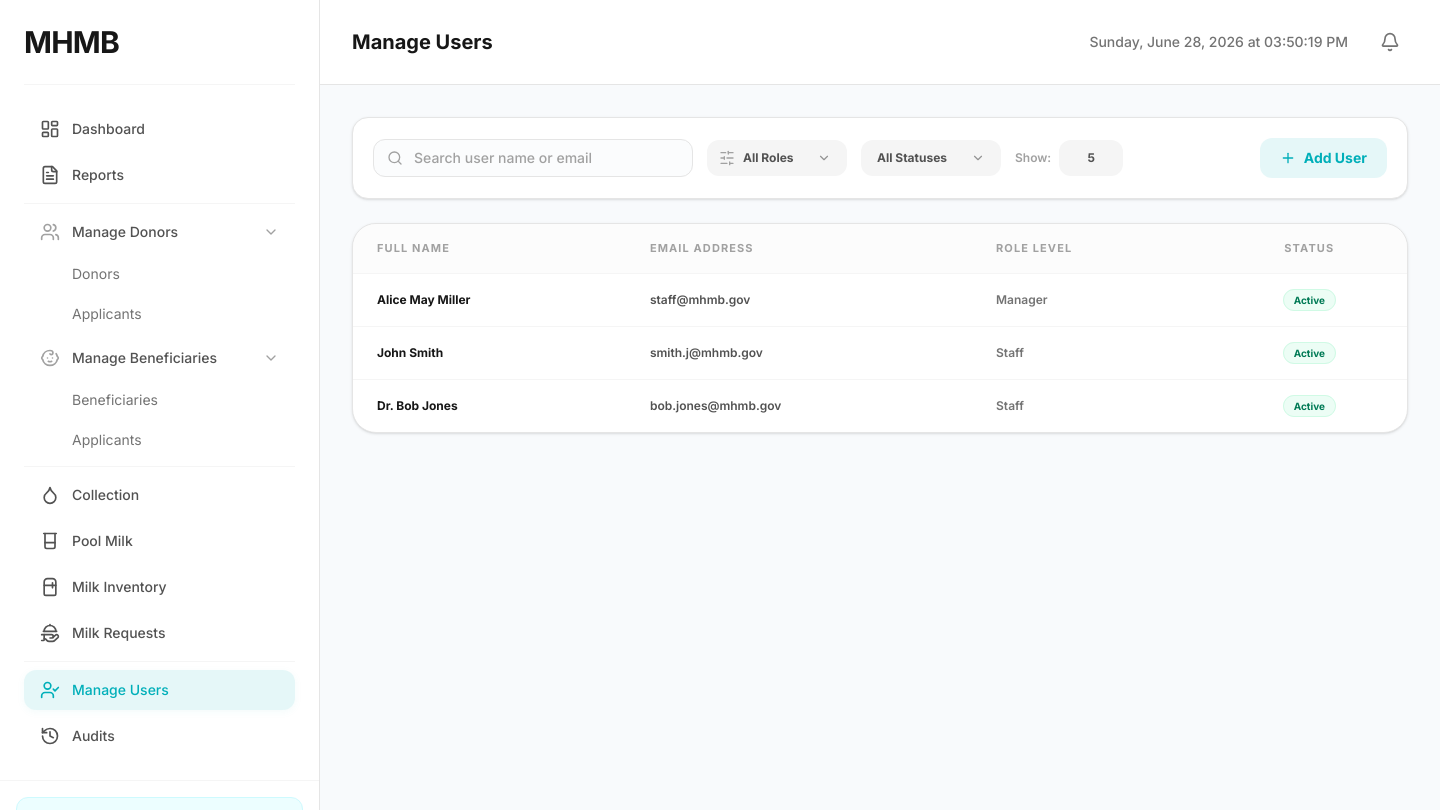
Test: StaffUsersManagement Component (API Integrated) › allows the manager to add a new user via API
The width and height of the screenshot is (1440, 810).
// Open add user modal
Step 1. Click the button with test id "add-user-btn" → {"x": 1323, "y": 158}, box [1260, 138, 1387, 178]
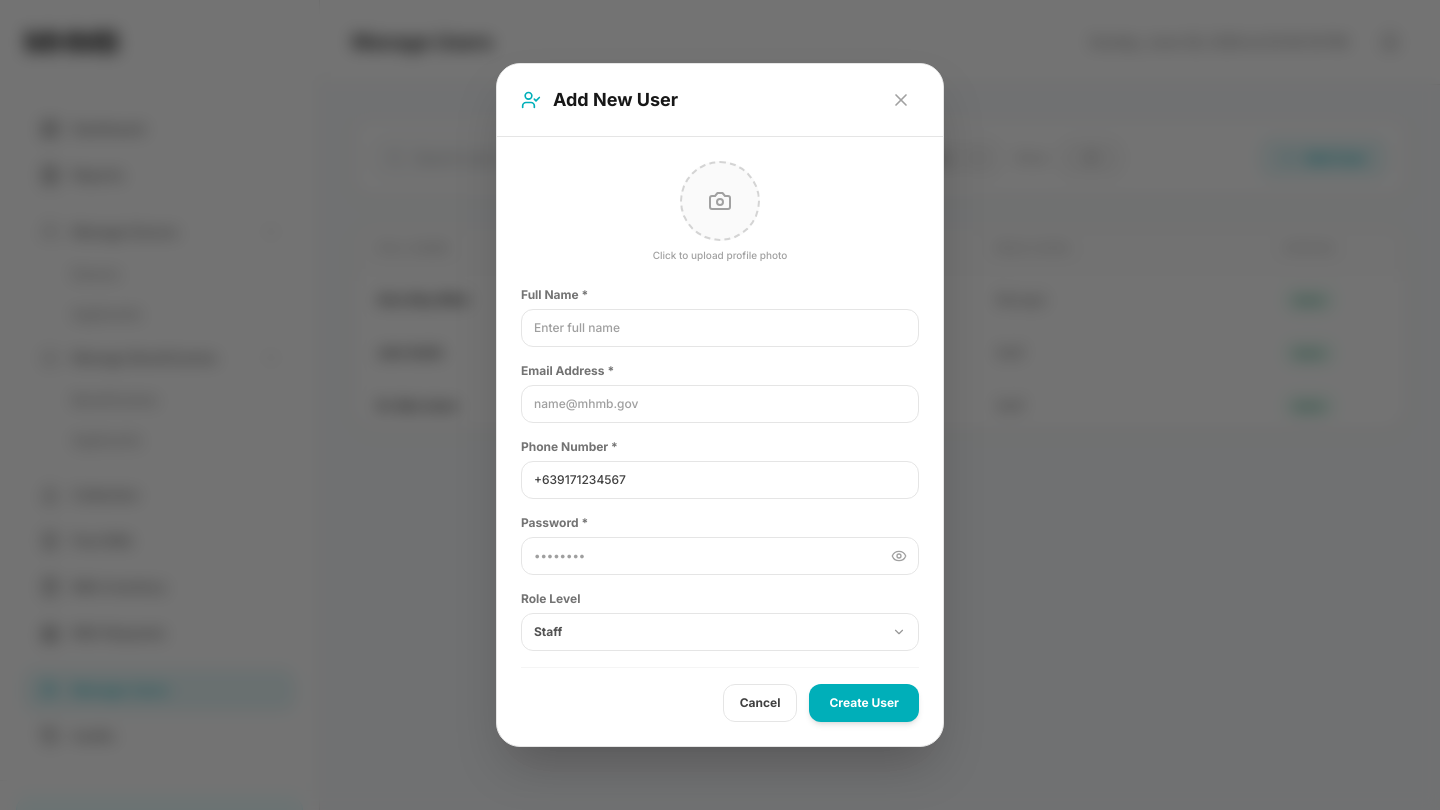
Now the element with test id "add-modal" is shown
// Fill in form details
Step 2. Type "Charlie Brown" into the field with test id "add-user-name" → {"x": 720, "y": 328}, box [521, 309, 919, 347]
Step 3. Type "charlie@mhmb.gov" into the field with test id "add-user-email" → {"x": 720, "y": 404}, box [521, 385, 919, 423]
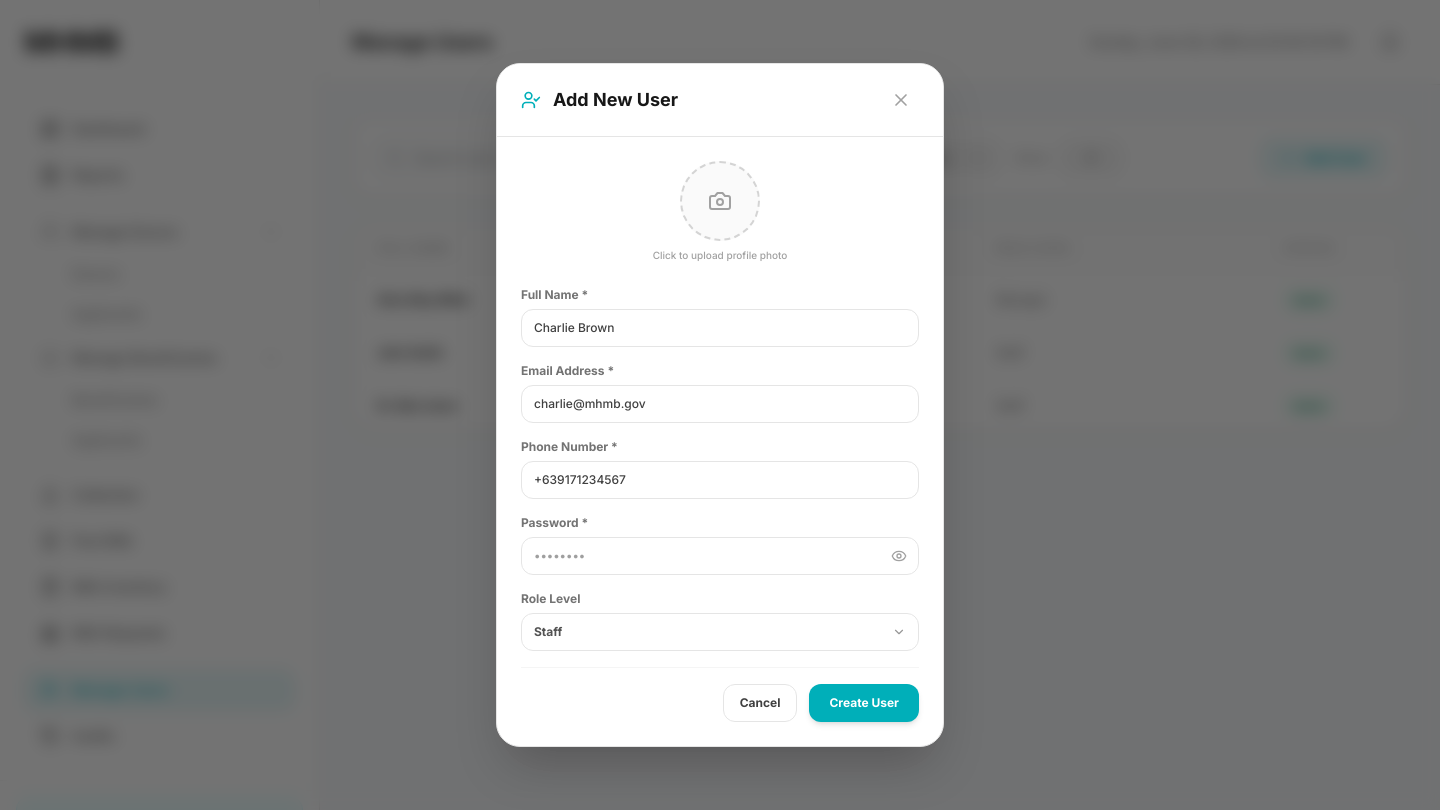
Step 4. Type "securepassword123" into the password field with test id "add-user-password" → {"x": 720, "y": 556}, box [521, 537, 919, 575]
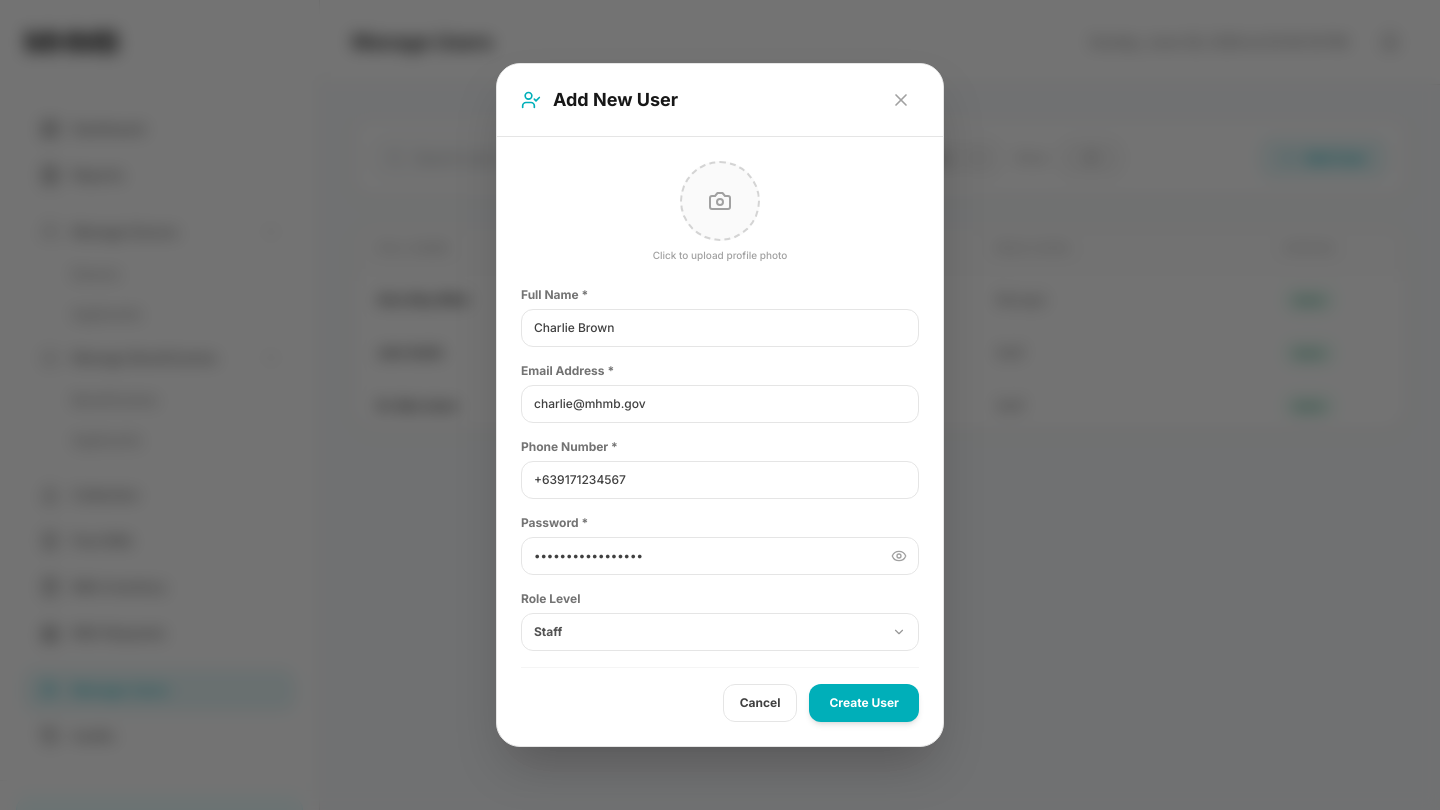
// Select role via custom dropdown clicks
Step 5. Click the element with test id "add-user-role" → {"x": 720, "y": 632}, box [521, 613, 919, 651]
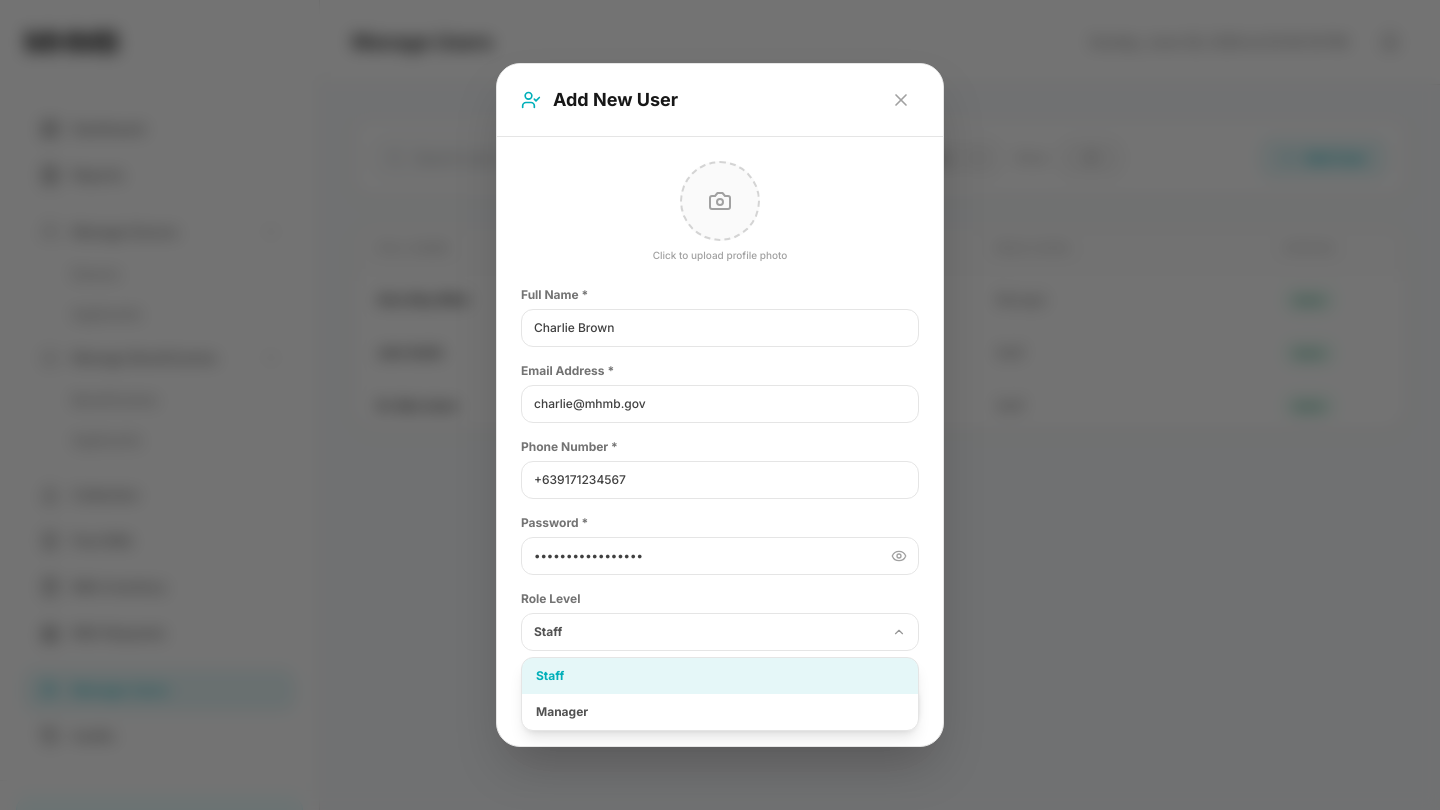
Step 6. Click the text with test id "option-staff" → {"x": 720, "y": 676}, box [522, 658, 918, 694]
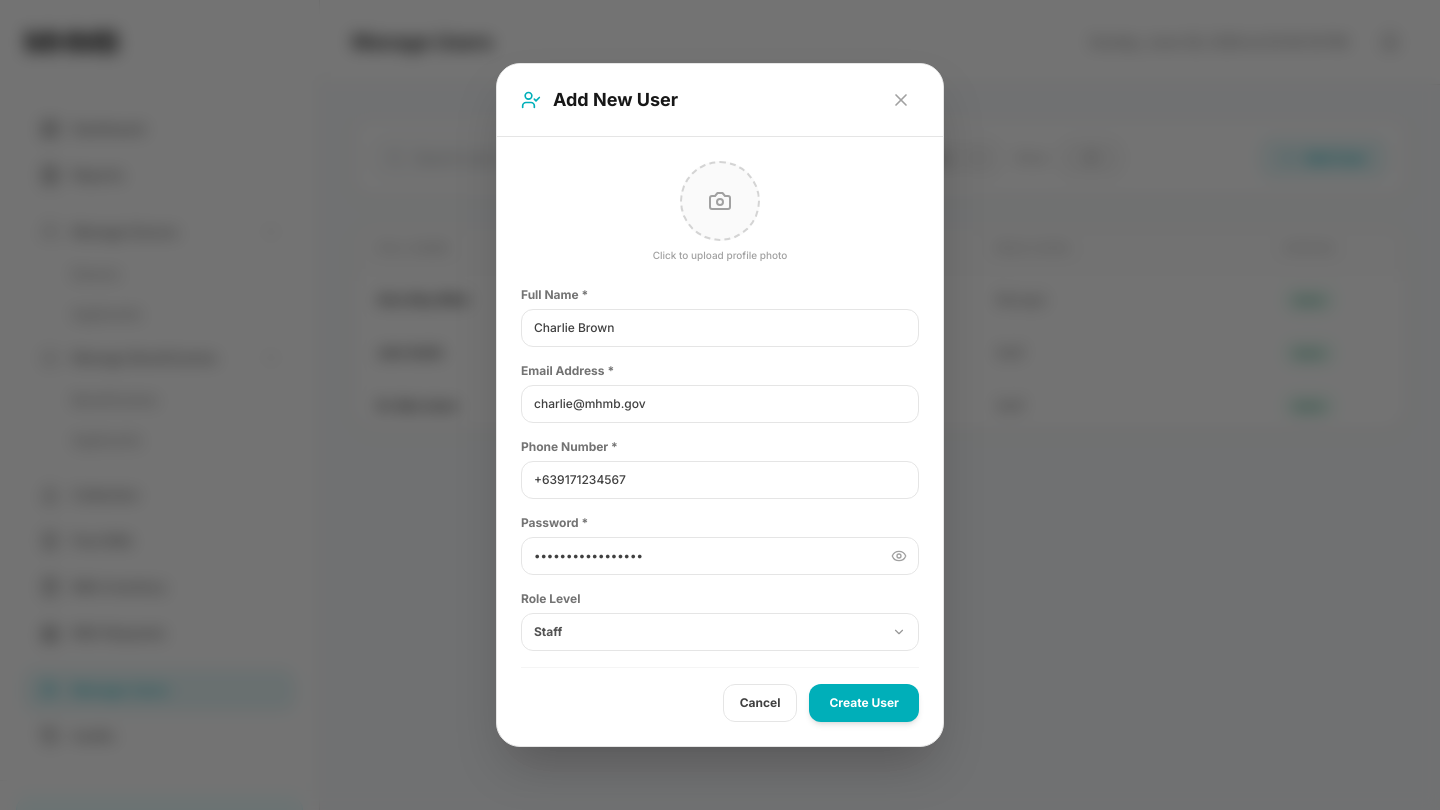
// Submit form
Step 7. Submit the form from the button with test id "submit-add-user-btn", box [810, 684, 919, 722]
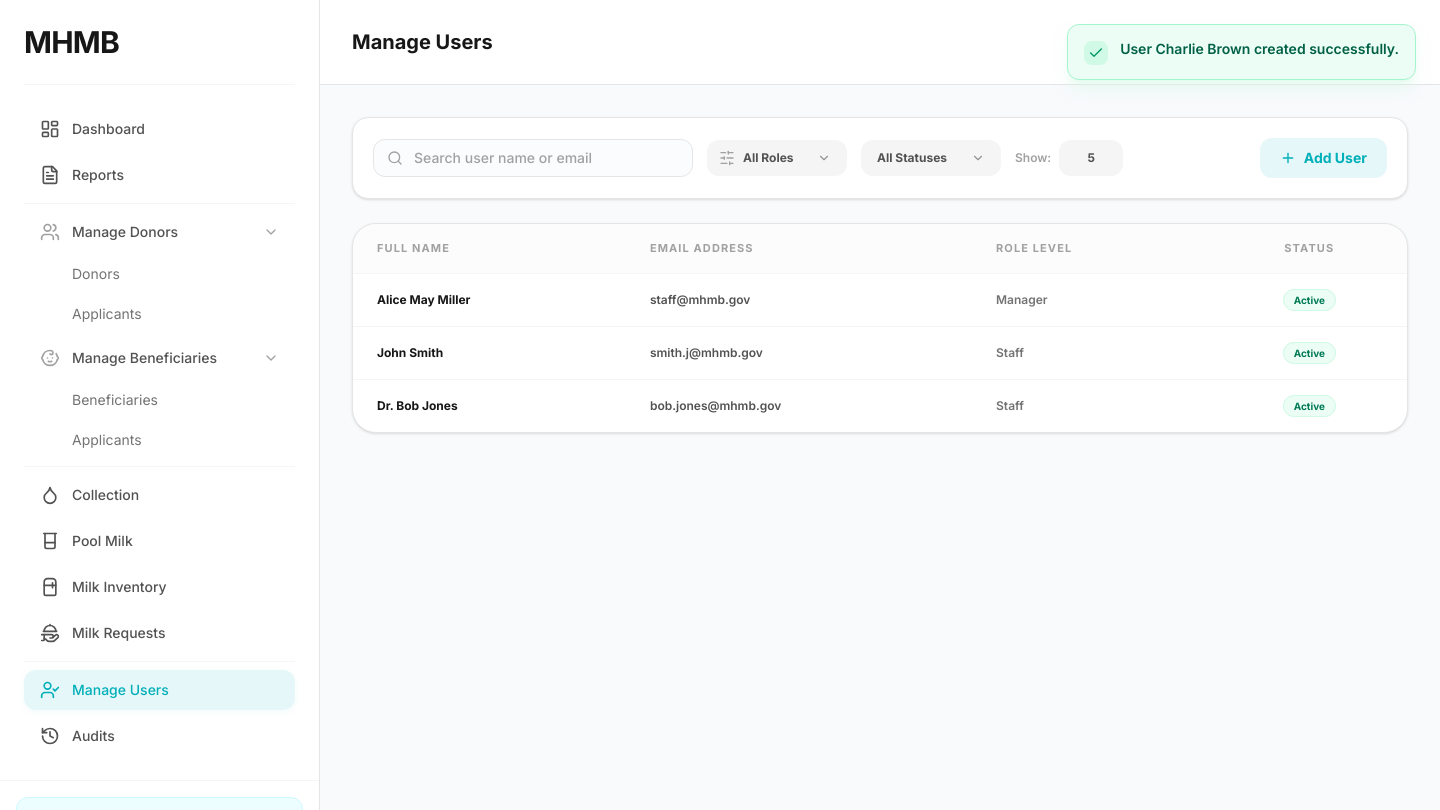
Now the element with test id "add-modal" is gone
